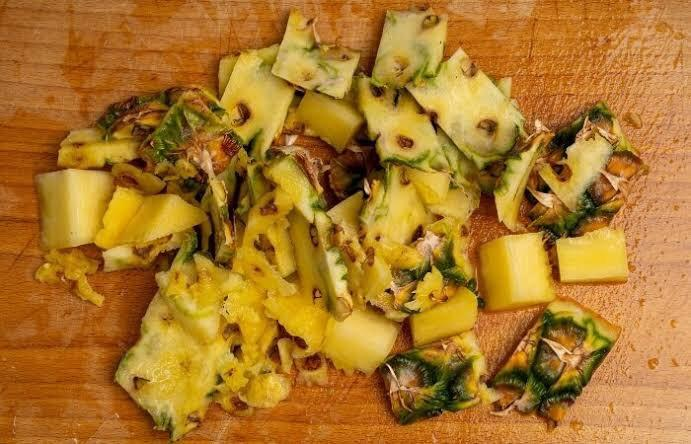organic: (357, 11, 523, 168), (116, 252, 228, 440), (494, 103, 642, 238), (491, 298, 618, 426), (134, 88, 243, 201), (381, 331, 484, 424), (272, 9, 358, 98), (95, 187, 205, 249), (37, 169, 112, 250), (478, 233, 553, 312), (324, 193, 365, 320), (411, 287, 477, 346), (556, 229, 627, 283)
